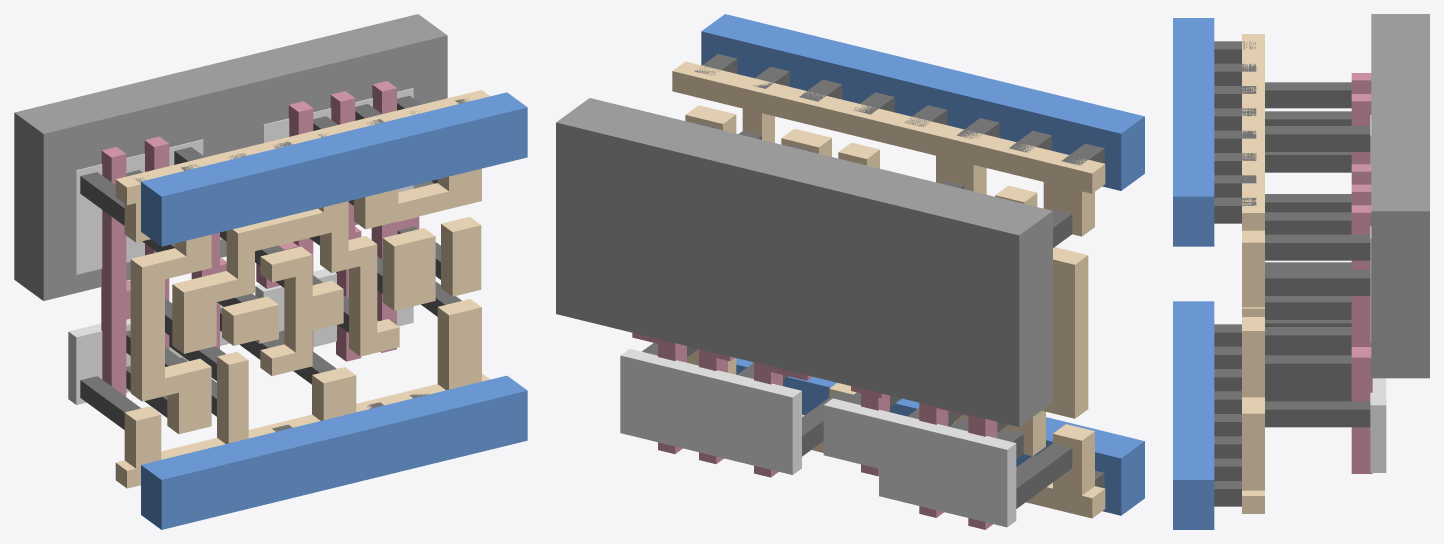
Rendered from sky130_fd_sc_hd__a21bo_2.gds.gltf.
The picture shows the model from 3 angles, left to right: view 1: azimuth 30°, elevation 25°; view 2: azimuth 150°, elevation 25°; view 3: azimuth 270°, elevation 25°; orthographic projection. The views are drawn at different scales.
Visible parts, largest first — view 1: sky130_fd_sc_hd__a21bo_2_li1, sky130_fd_sc_hd__a21bo_2_met1, sky130_fd_sc_hd__a21bo_2_nwell, sky130_fd_sc_hd__a21bo_2_poly, sky130_fd_sc_hd__a21bo_2_licon, sky130_fd_sc_hd__a21bo_2_diff, sky130_fd_sc_hd__a21bo_2_mcon; view 2: sky130_fd_sc_hd__a21bo_2_nwell, sky130_fd_sc_hd__a21bo_2_li1, sky130_fd_sc_hd__a21bo_2_diff, sky130_fd_sc_hd__a21bo_2_met1, sky130_fd_sc_hd__a21bo_2_licon, sky130_fd_sc_hd__a21bo_2_mcon, sky130_fd_sc_hd__a21bo_2_poly; view 3: sky130_fd_sc_hd__a21bo_2_licon, sky130_fd_sc_hd__a21bo_2_nwell, sky130_fd_sc_hd__a21bo_2_met1, sky130_fd_sc_hd__a21bo_2_mcon, sky130_fd_sc_hd__a21bo_2_li1, sky130_fd_sc_hd__a21bo_2_poly, sky130_fd_sc_hd__a21bo_2_diff.
Boxes of the visible parts, x1,y1,x2,y2 form: sky130_fd_sc_hd__a21bo_2_li1: [115, 90, 489, 488]; sky130_fd_sc_hd__a21bo_2_met1: [141, 92, 527, 529]; sky130_fd_sc_hd__a21bo_2_nwell: [14, 14, 447, 300]; sky130_fd_sc_hd__a21bo_2_poly: [101, 81, 419, 396]; sky130_fd_sc_hd__a21bo_2_licon: [80, 95, 461, 429]; sky130_fd_sc_hd__a21bo_2_diff: [68, 88, 413, 404]; sky130_fd_sc_hd__a21bo_2_mcon: [135, 98, 469, 431]; sky130_fd_sc_hd__a21bo_2_nwell: [556, 98, 1052, 426]; sky130_fd_sc_hd__a21bo_2_li1: [672, 61, 1105, 518]; sky130_fd_sc_hd__a21bo_2_diff: [620, 349, 1016, 527]; sky130_fd_sc_hd__a21bo_2_met1: [701, 14, 1144, 515]; sky130_fd_sc_hd__a21bo_2_licon: [642, 122, 1072, 508]; sky130_fd_sc_hd__a21bo_2_mcon: [694, 54, 1104, 488]; sky130_fd_sc_hd__a21bo_2_poly: [632, 332, 997, 529]; sky130_fd_sc_hd__a21bo_2_licon: [1265, 82, 1370, 427]; sky130_fd_sc_hd__a21bo_2_nwell: [1371, 14, 1429, 378]; sky130_fd_sc_hd__a21bo_2_met1: [1173, 18, 1214, 529]; sky130_fd_sc_hd__a21bo_2_mcon: [1214, 41, 1256, 506]; sky130_fd_sc_hd__a21bo_2_li1: [1242, 34, 1264, 513]; sky130_fd_sc_hd__a21bo_2_poly: [1351, 73, 1372, 473]; sky130_fd_sc_hd__a21bo_2_diff: [1370, 115, 1386, 472].
Bounding box in the file's own units: 4.06 × 3.2 × 2.24.
